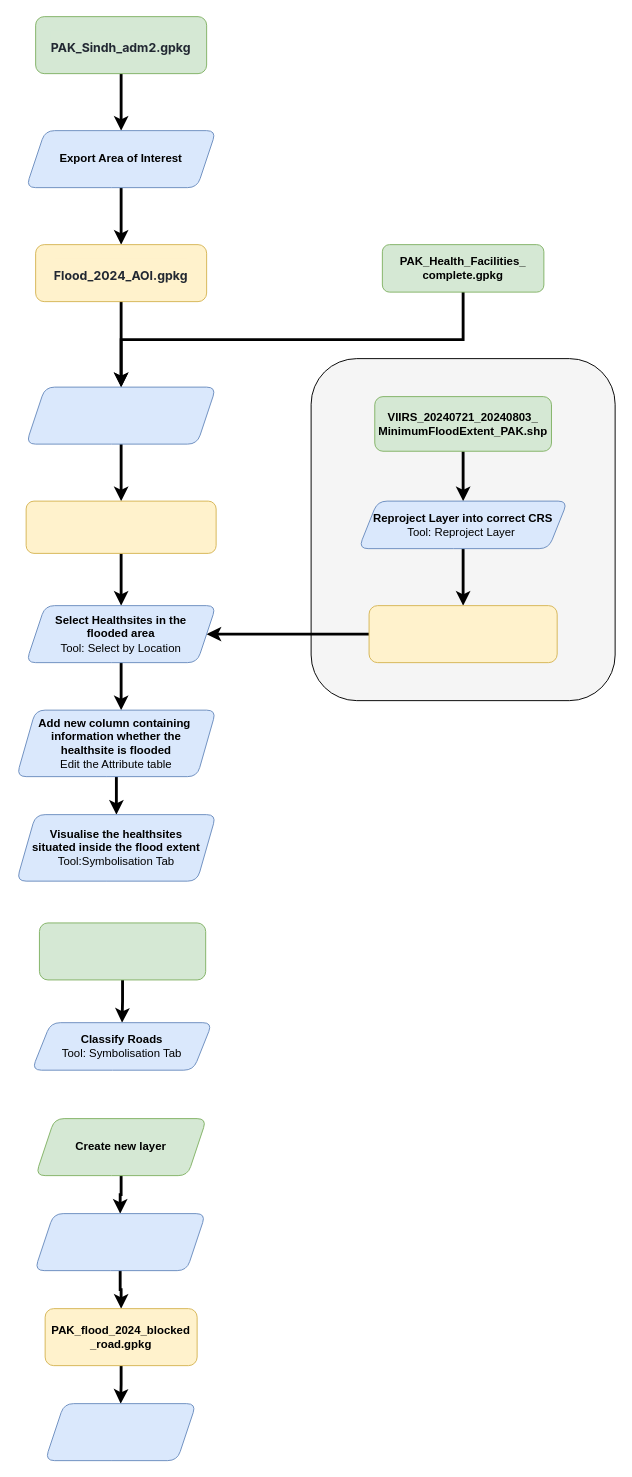
The diagram is 632 pixels wide and 1477 high, and some of its shapes have lost their labels. The shapes that lost their labels are listed below. From the top down, each one's centre as x and y in pixels, then its label:
[120,415]: Extract Health facilities in AOI Tool: Extract by Location
[120,526]: Health_Facilities_Flood_2024_AOI .gpkg
[462,634]: 2024_MinFloodExtent_reprojected .gpkg
[122,951]: Roads_Larkana.gpkg
[120,1242]: Digitise Blocked (flooded) Roads Tool: Digitisation Toolbar
[120,1432]: Symbolise blocked roads points Tool: Symbolisation Tab
